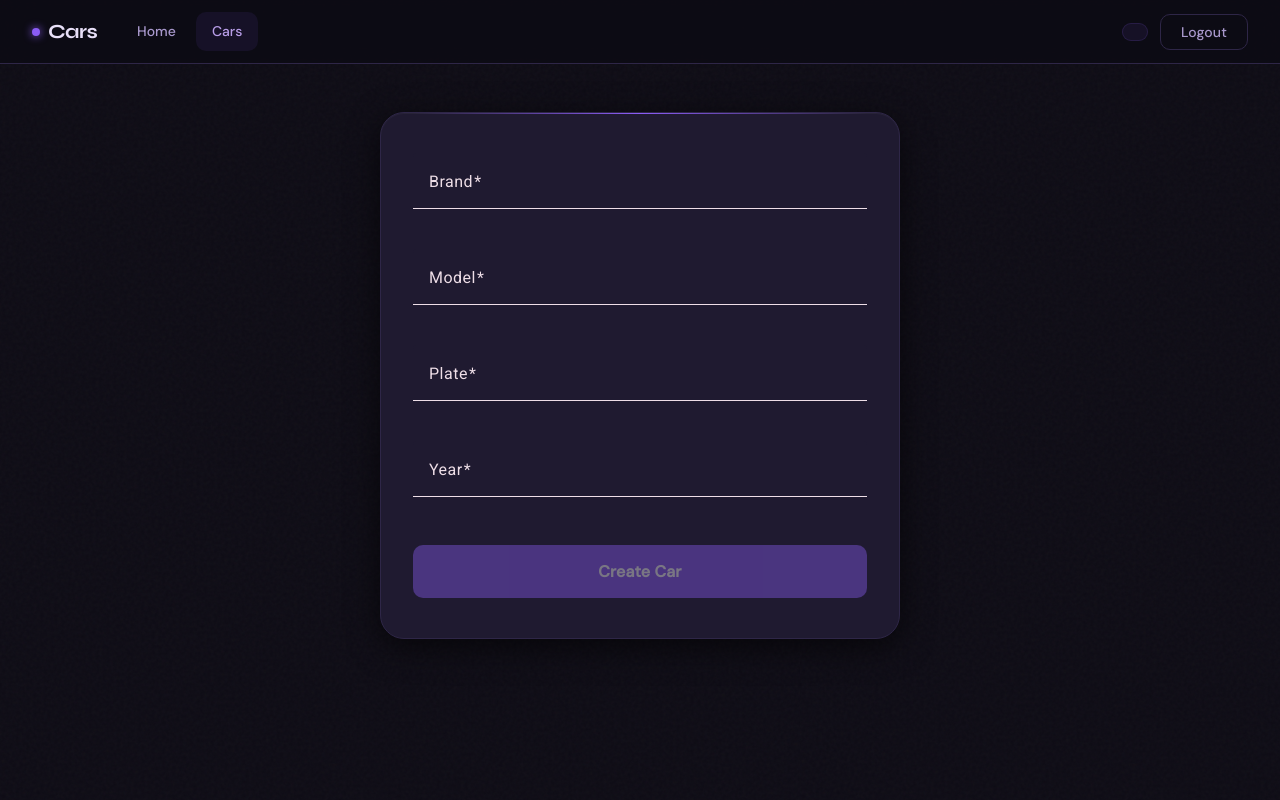
Save Car › should show error on creating a car
This screenshot has width=1280, height=800.
Type "Toyota" into the field named "brand". click: coordinates (640, 189)
box: [429,177,851,201]
Type "Corolla" into the field named "model". click: coordinates (640, 285)
box: [429,273,851,297]
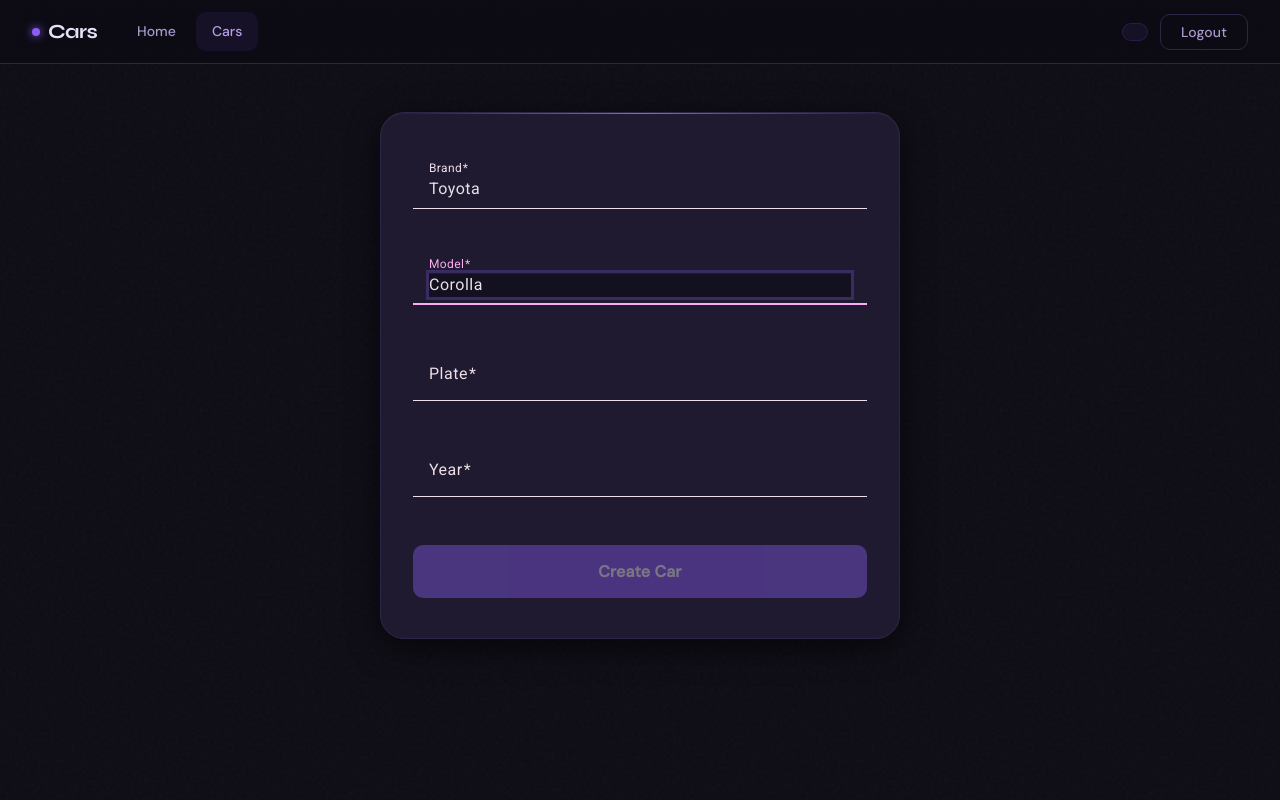
Type "2020" into the number field named "year". click: coordinates (640, 477)
box: [429,465,851,489]
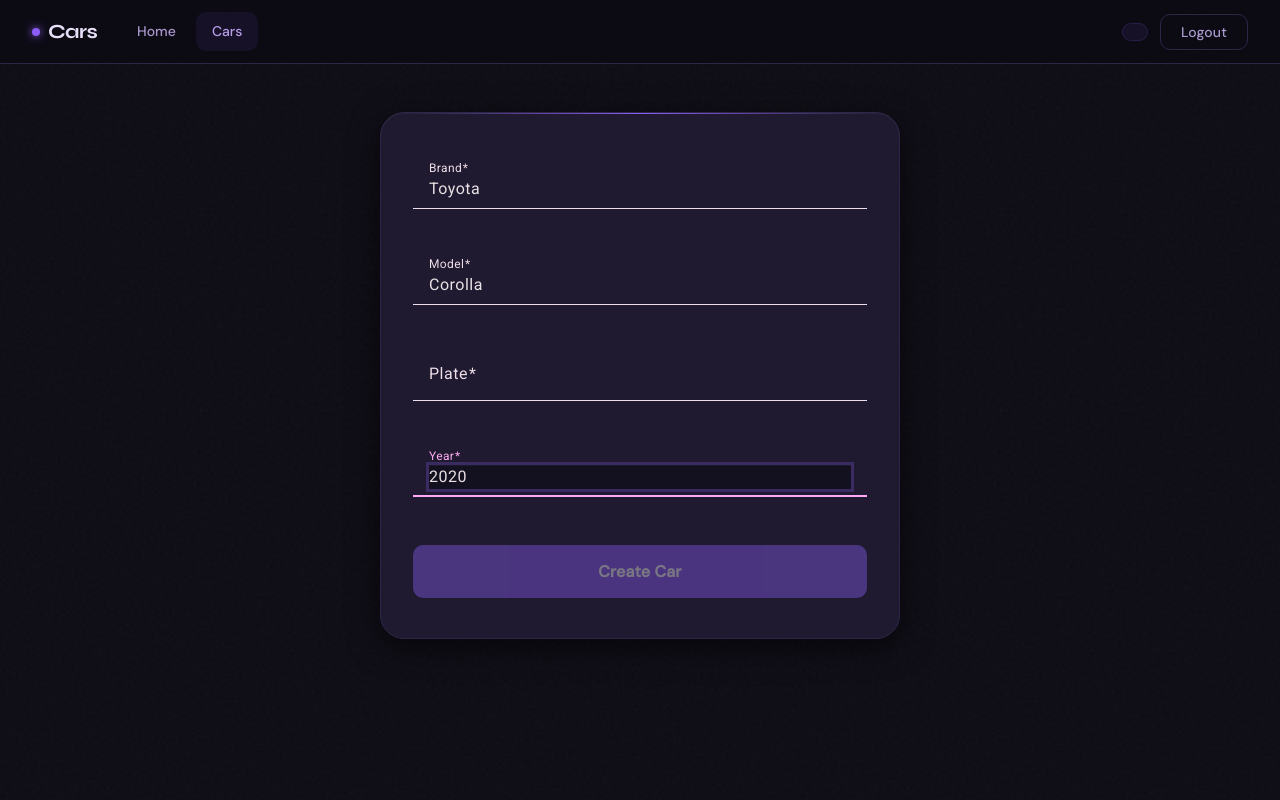
Type "INVALID_PLATE" into the field named "plate". click: coordinates (640, 381)
box: [429,369,851,393]
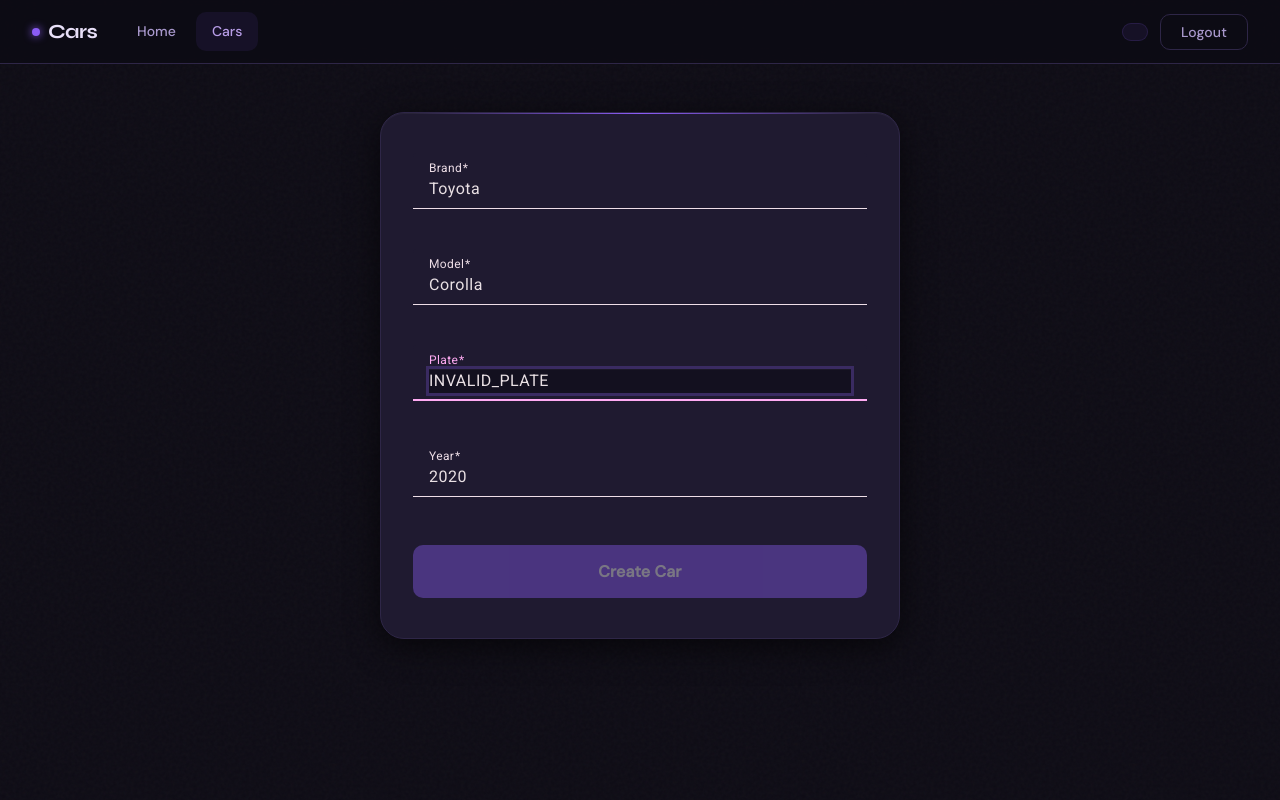
Leave the field named "plate", box [429,369,851,393]
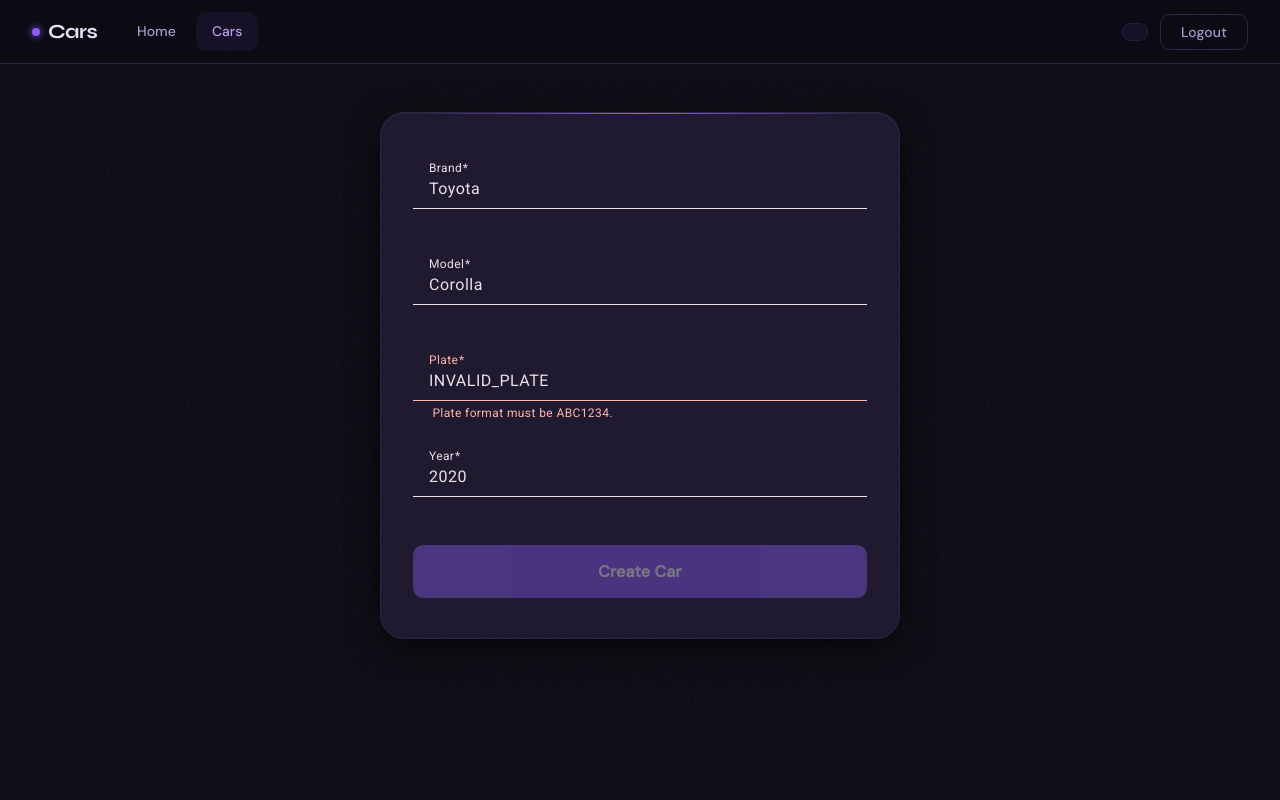
Check: the submit button is disabled, box [413,545,867,598]
Check: the text "Plate format must be ABC1234." is shown, box [429,406,613,420]
Replace the text in the field named "plate" with "ABC1234". click: coordinates (640, 381)
box: [429,369,851,393]
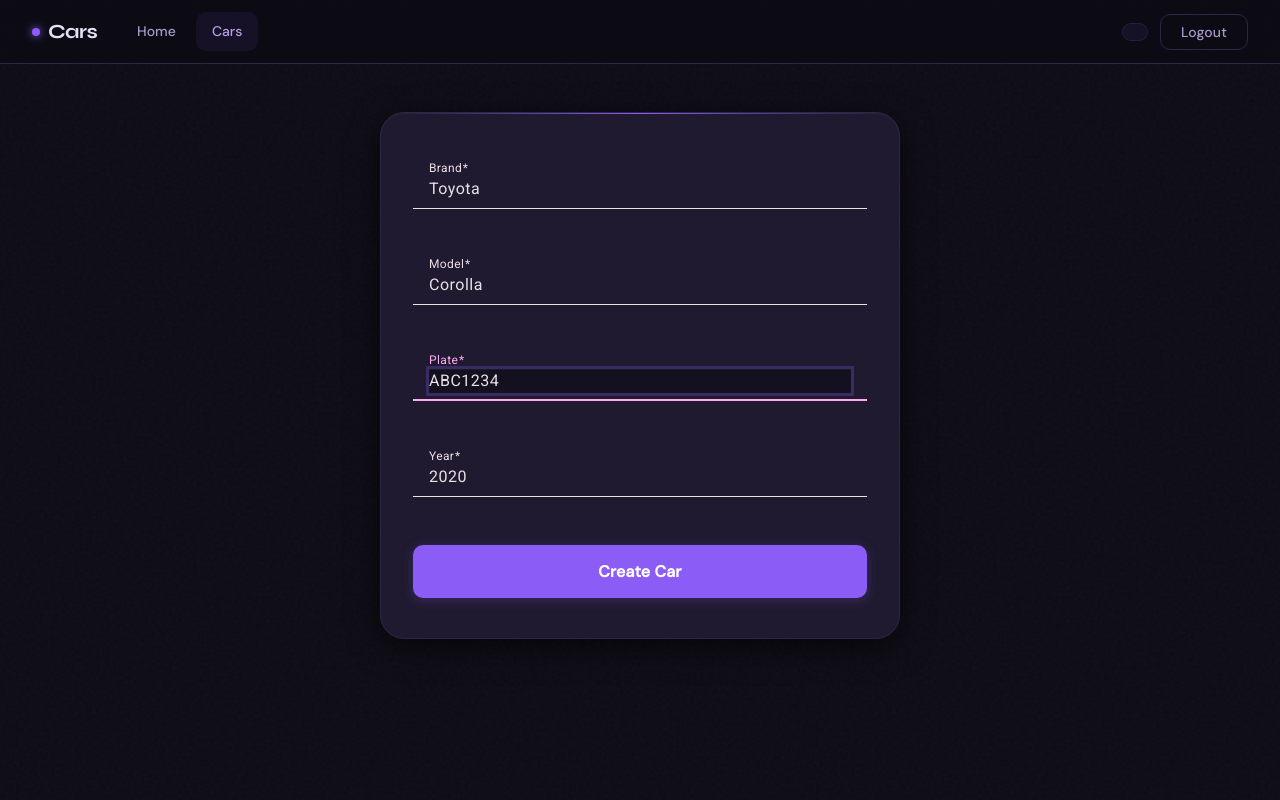
Check: the submit button is enabled
Click the submit button. click: coordinates (640, 572)
box: [413,545,867,598]
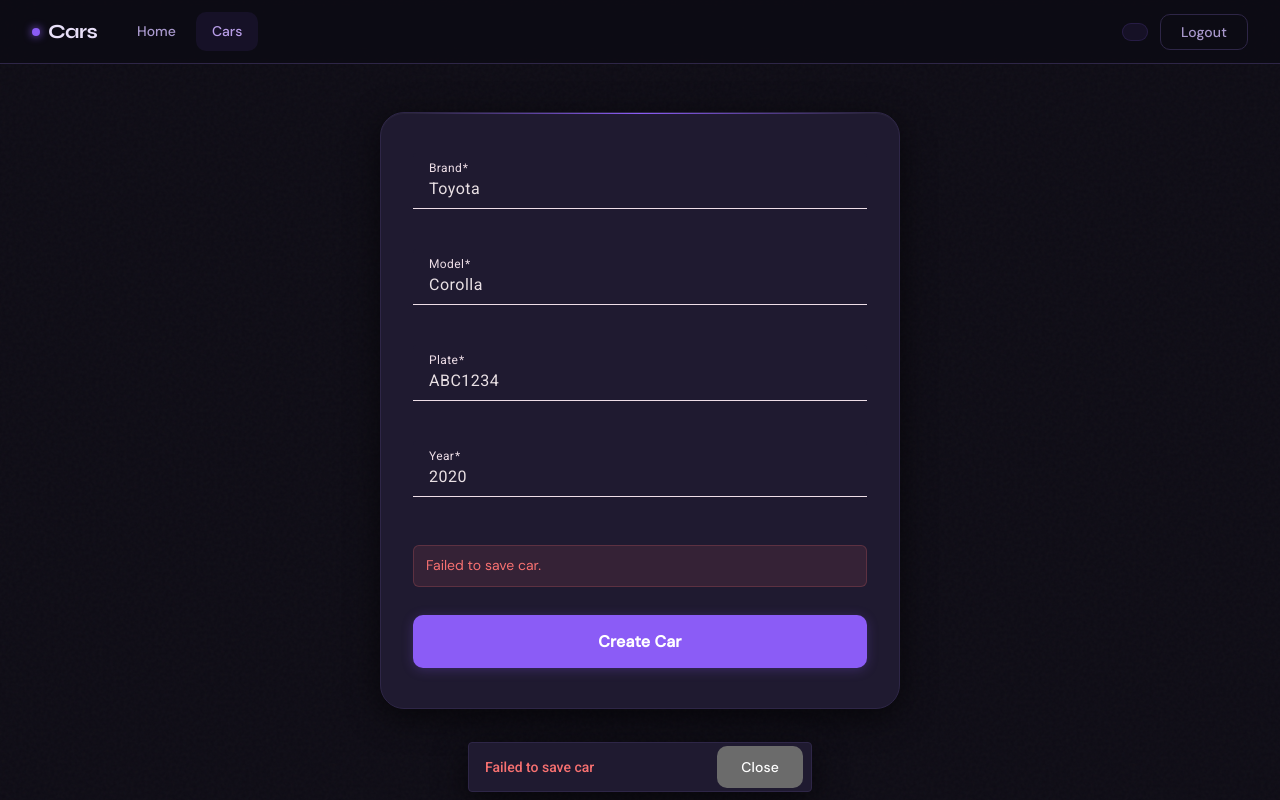
Check: the text "Failed to save car" is shown, box [485,759,594,775]
Check: the text with class "error" reads "Failed to save car.", box [426,556,541,574]
